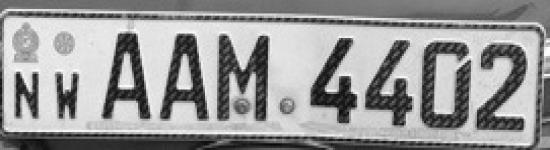0: (418, 35, 474, 133)
2: (472, 35, 533, 138)
4: (296, 28, 362, 129), (361, 32, 418, 134)
A: (211, 26, 274, 128), (94, 24, 156, 125), (156, 27, 212, 126)
N: (8, 65, 47, 124)
W: (48, 64, 90, 126)
